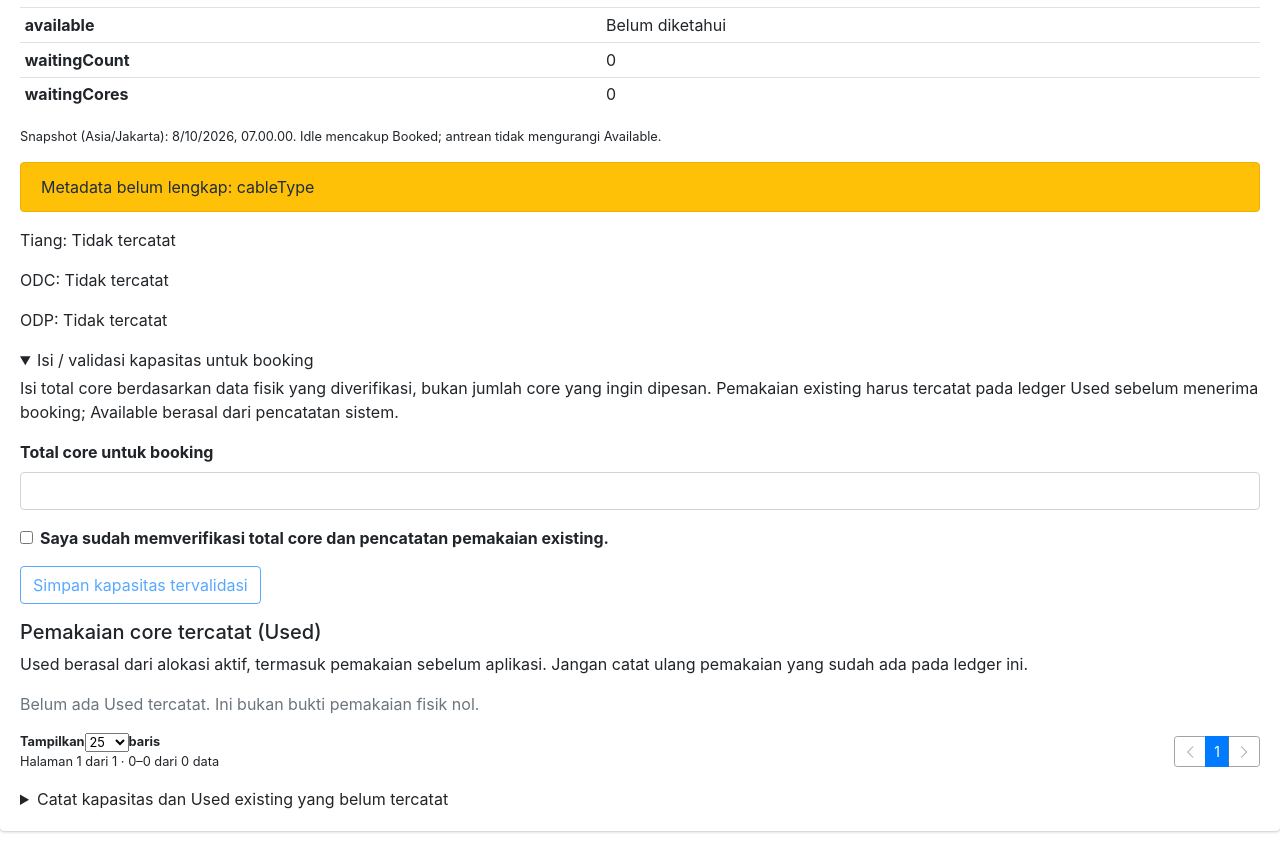
operational API interactions › records verified existing usage directly and refreshes Used/Available without creating a booking
The width and height of the screenshot is (1280, 847).
(page scrolled)
Click the heading "Catat kapasitas dan Used existing yang belum tercatat".
click(242, 799)  # box x1=37 y1=789 x2=448 y2=809
(page scrolled)
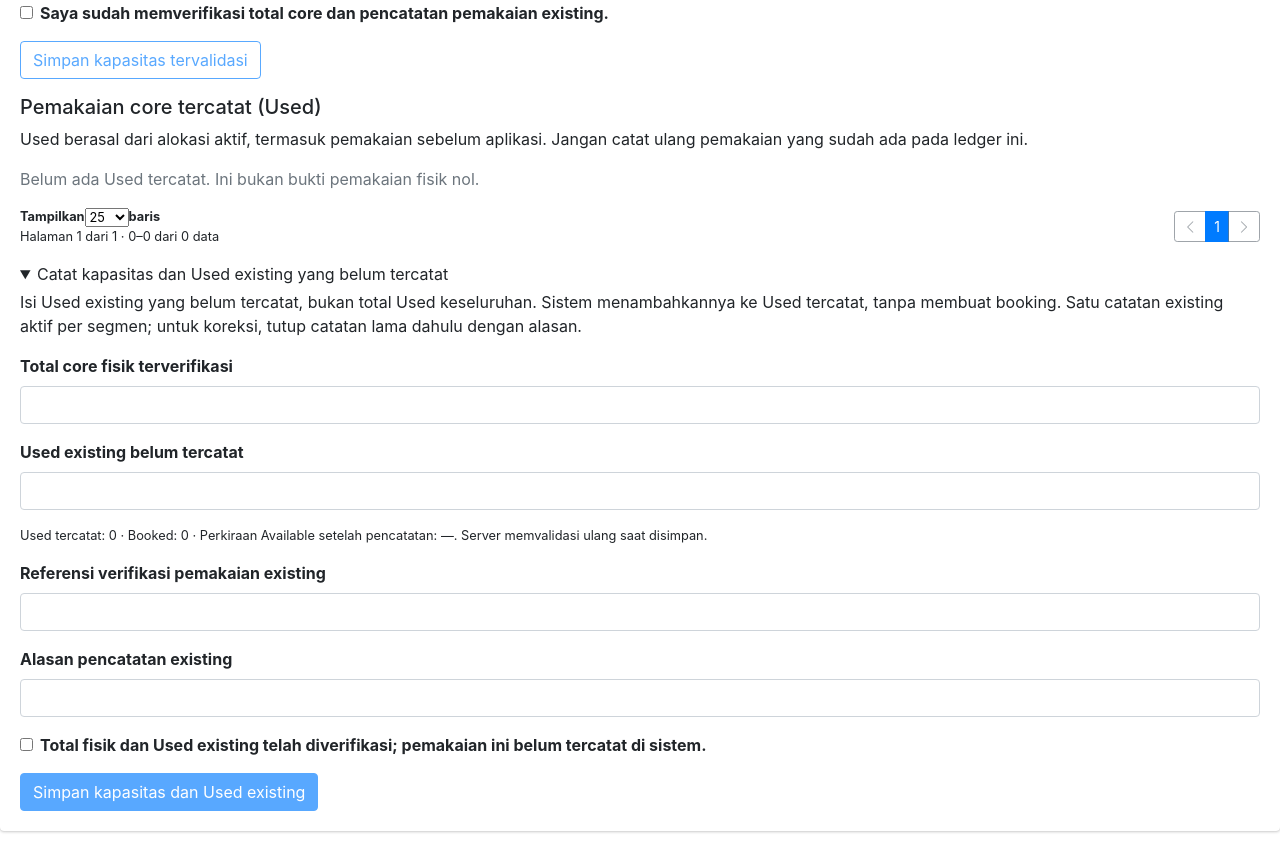
Type "24" into the number field labelled "Total core fisik terverifikasi".
click(640, 405); type("24")  # box x1=20 y1=386 x2=1260 y2=424
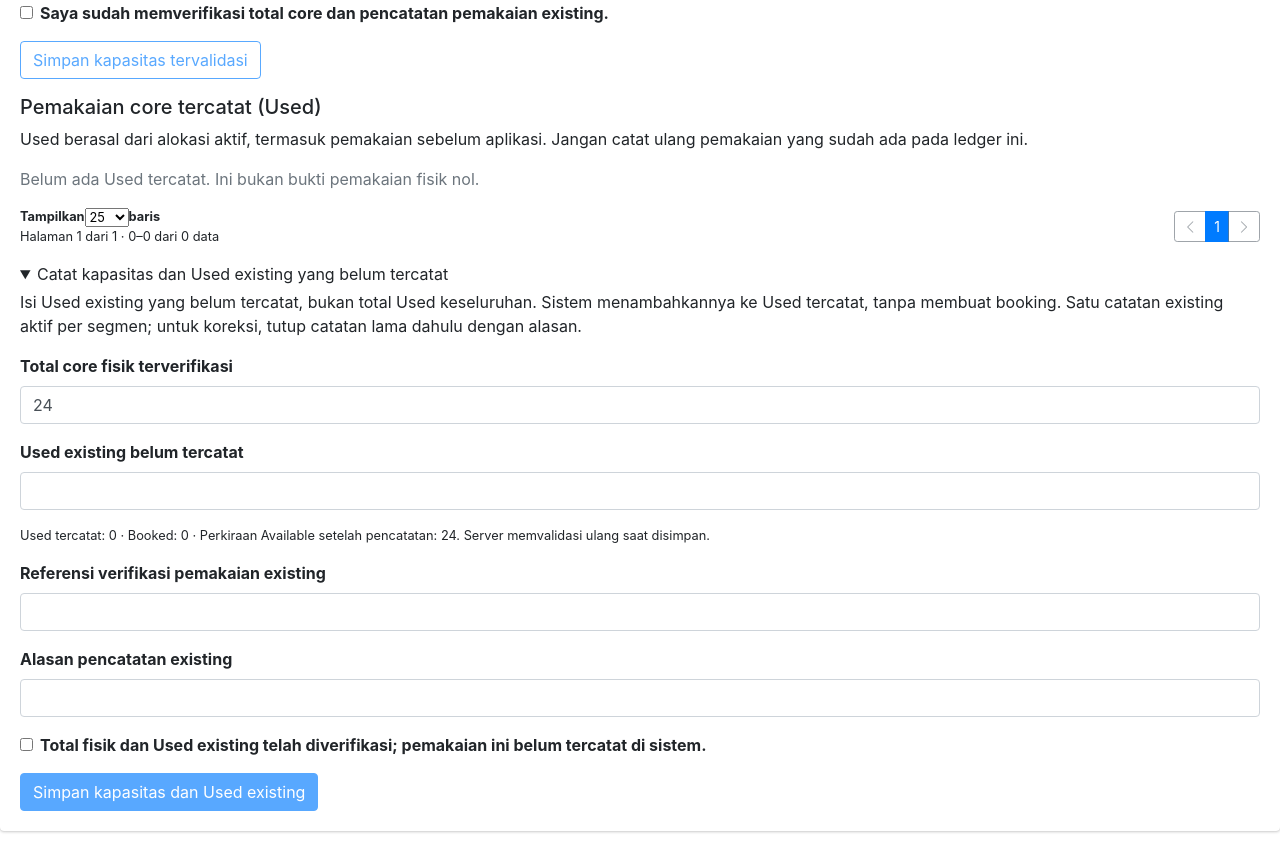
Type "6" into the number field labelled "Used existing belum tercatat".
click(640, 491); type("6")  # box x1=20 y1=472 x2=1260 y2=510
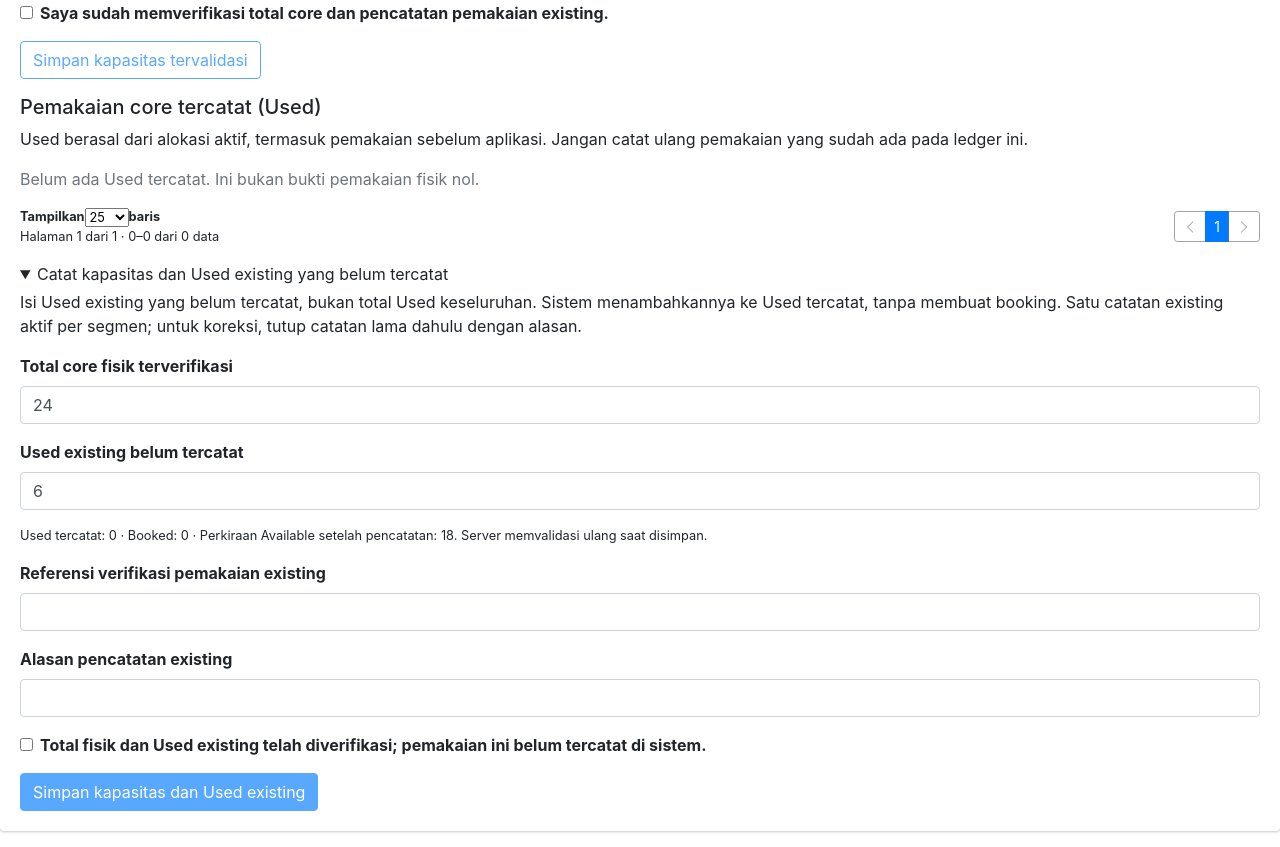
Type "Inventory verified" into the field labelled "Referensi verifikasi pemakaian existing".
click(640, 612); type("Inventory verified")  # box x1=20 y1=593 x2=1260 y2=631
Type "Initial inventory" into the field labelled "Alasan pencatatan existing".
click(640, 698); type("Initial inventory")  # box x1=20 y1=679 x2=1260 y2=717
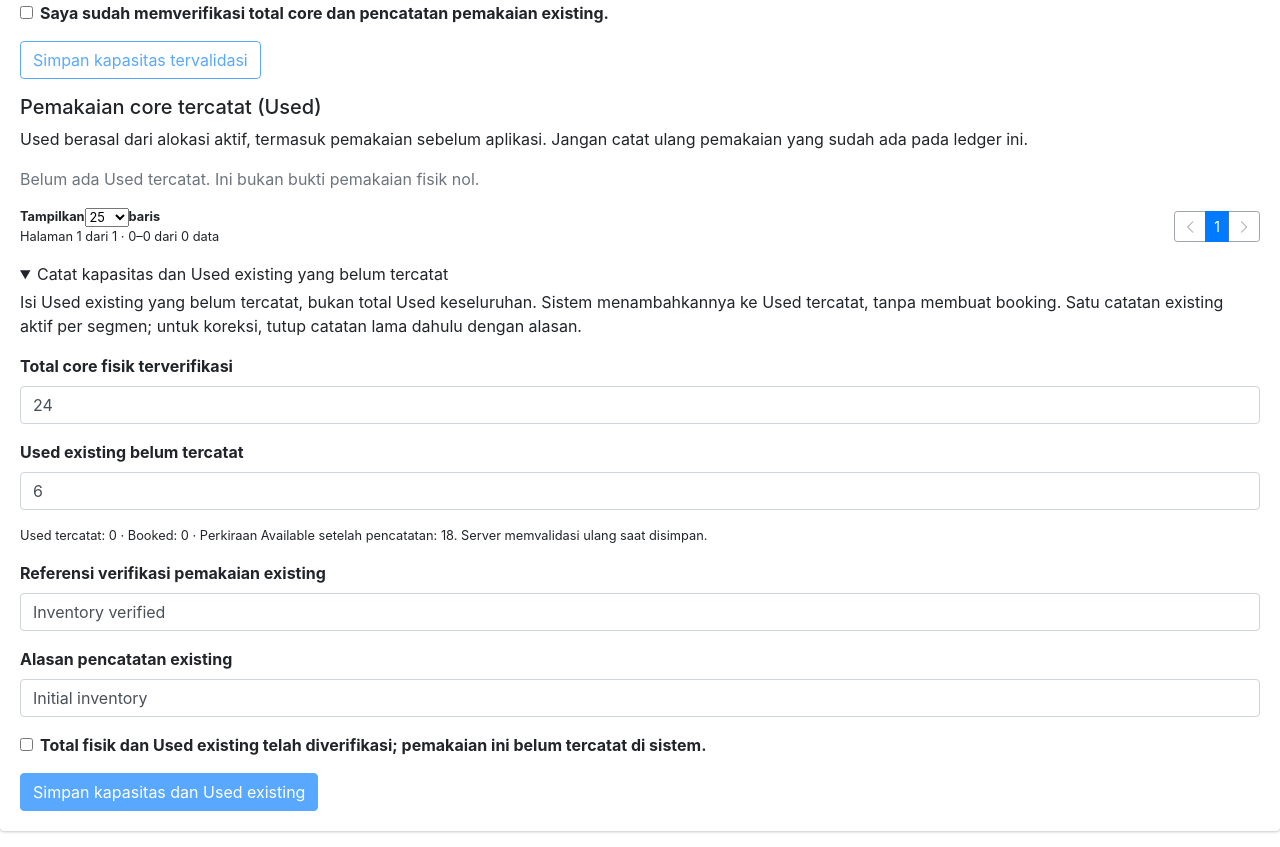
Check: the button "Simpan kapasitas dan Used existing" is disabled, box x1=20 y1=773 x2=318 y2=811
Click the checkbox named "Total fisik dan Used existing telah diverifikasi; pemakaian ini belum tercatat di sistem.".
click(26, 744)  # box x1=20 y1=738 x2=33 y2=751
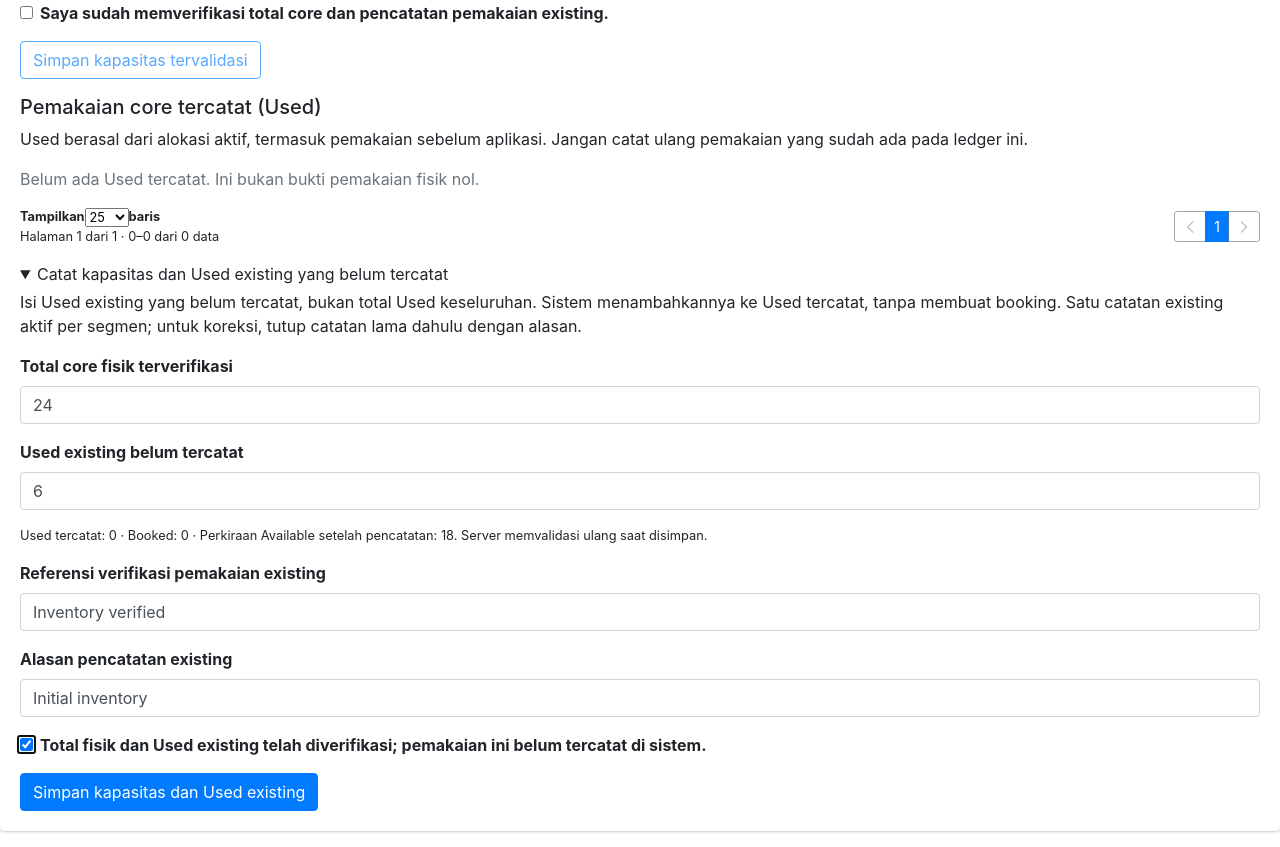
Click the button "Simpan kapasitas dan Used existing".
click(169, 792)  # box x1=20 y1=773 x2=318 y2=811
(page scrolled)
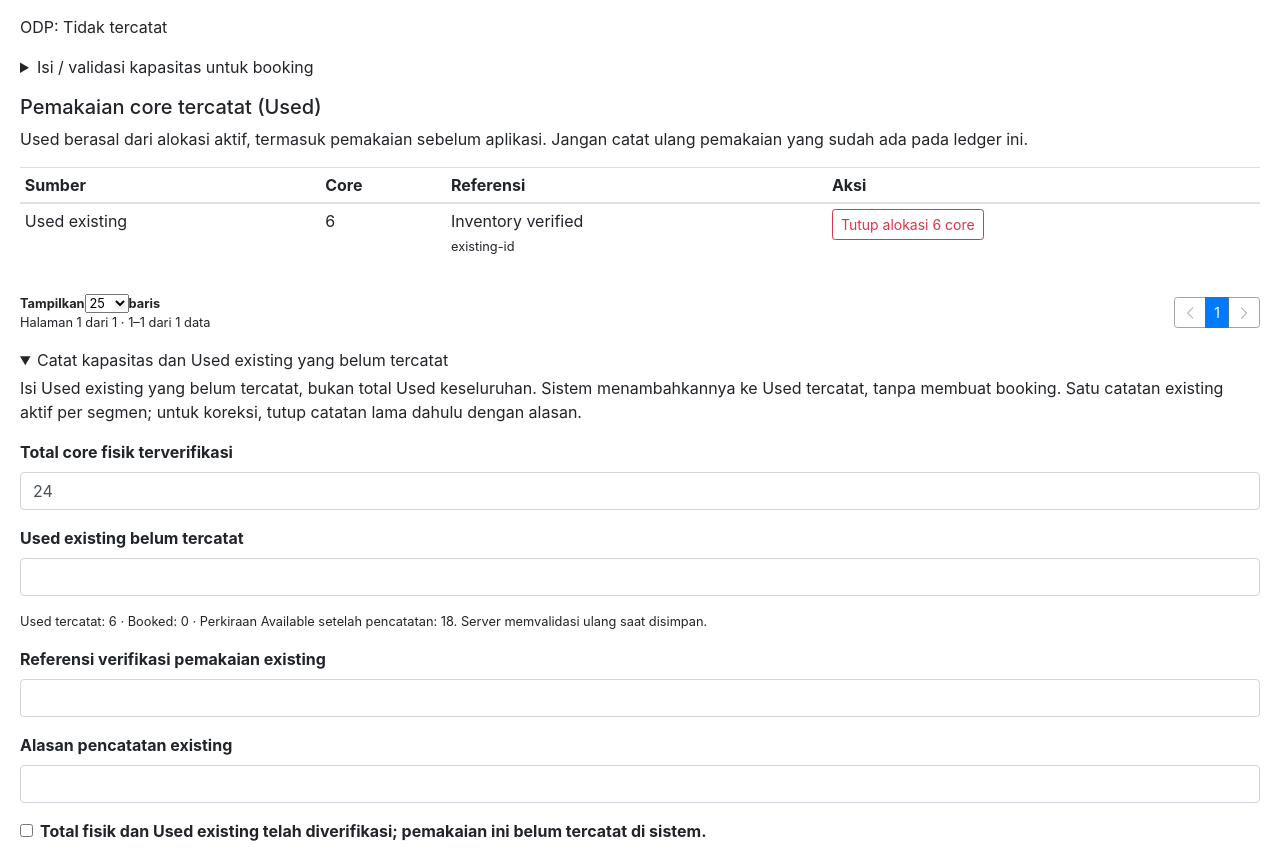
Check: the text "Used existing" is shown, box x1=20 y1=203 x2=320 y2=262
